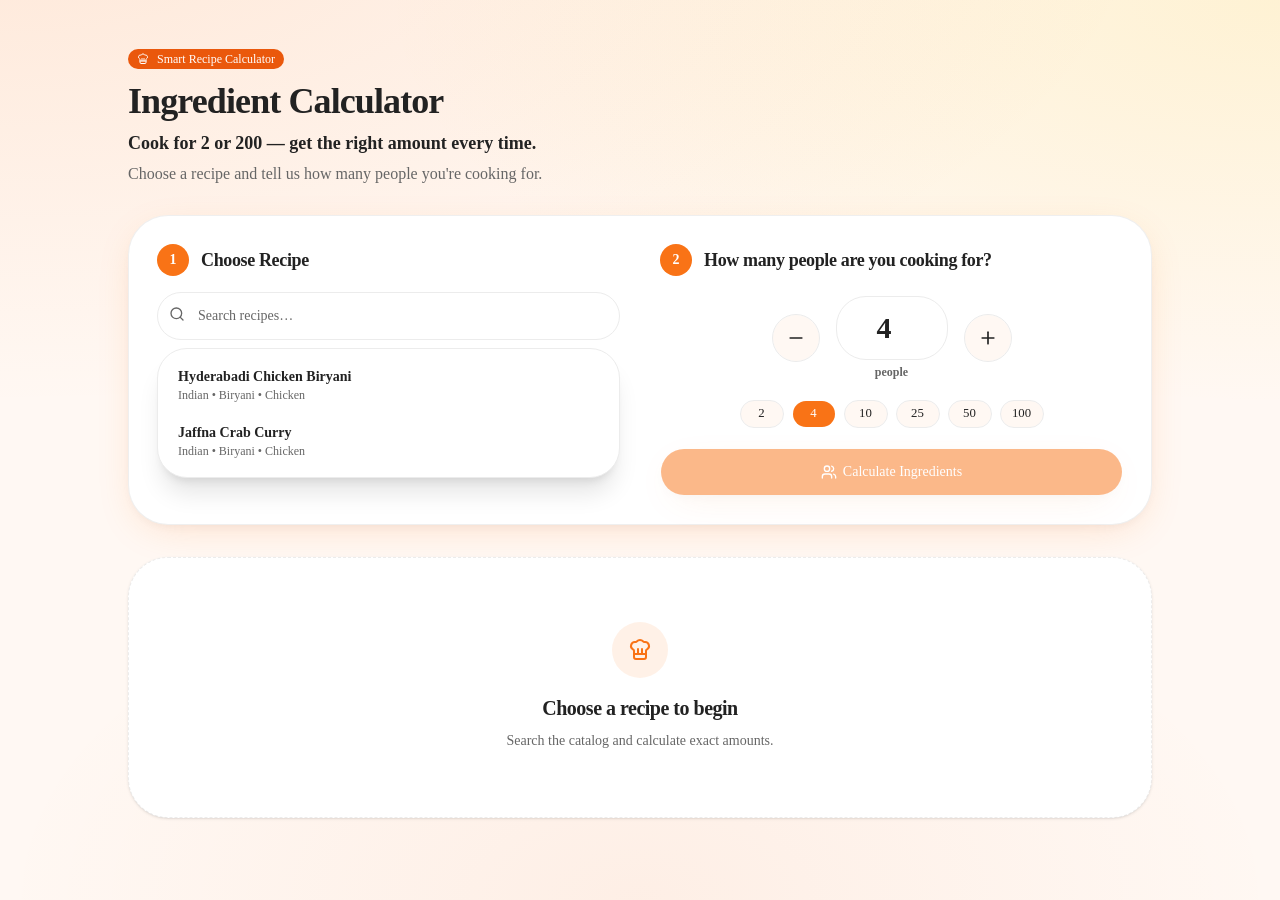
it: Calculate page › shows the complete catalog whenever the recipe search is focused
The image size is (1280, 900).
Check: the option "Jaffna Crab Curry Indian • Biryani • Chicken" is shown, box x1=166 y1=413 x2=611 y2=469
Click the option "Hyderabadi Chicken Biryani Indian • Biryani • Chicken".
click(265, 376)  # box x1=166 y1=357 x2=611 y2=413
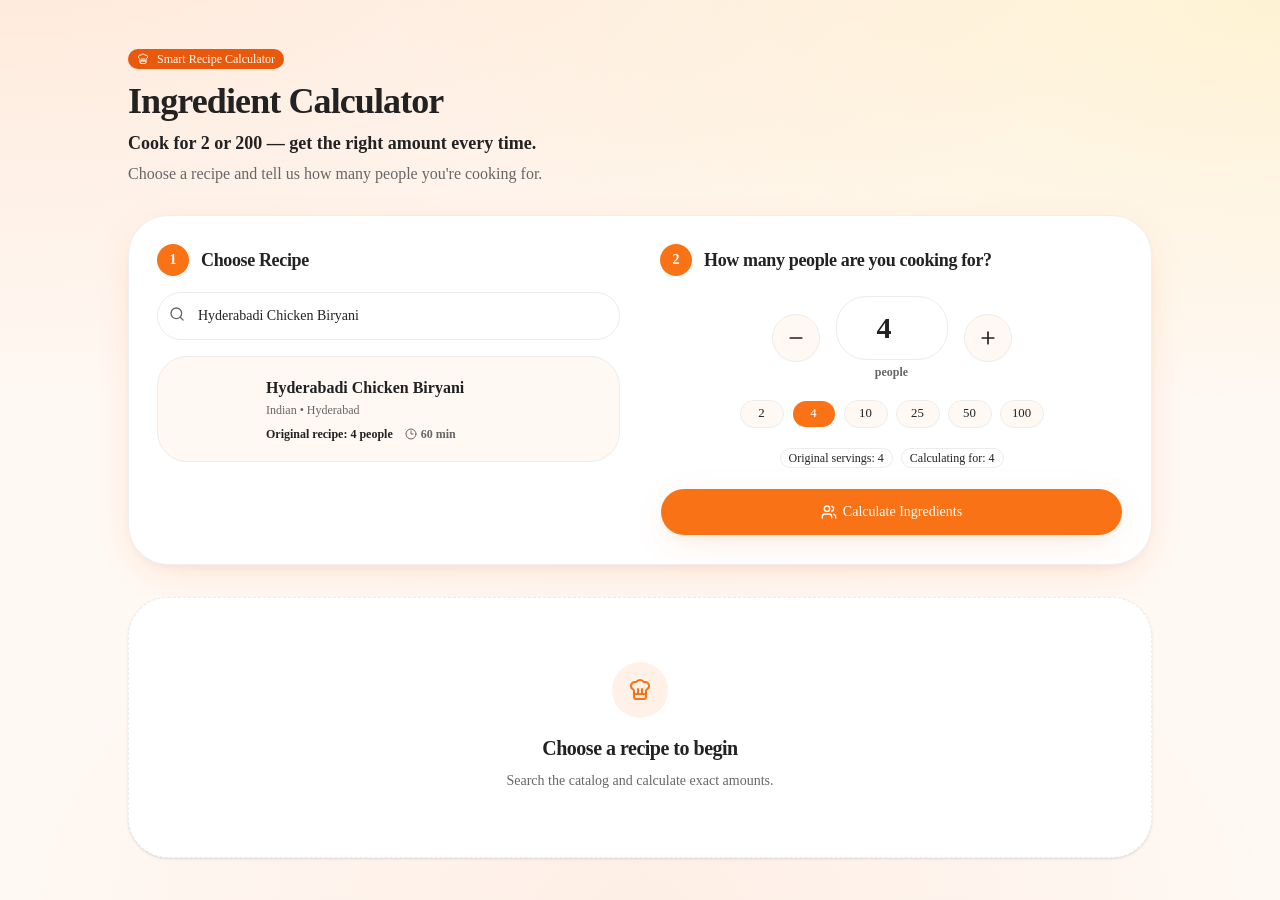
Focus the dropdown named "Search recipes…" at [388, 316], box x1=157 y1=292 x2=620 y2=340
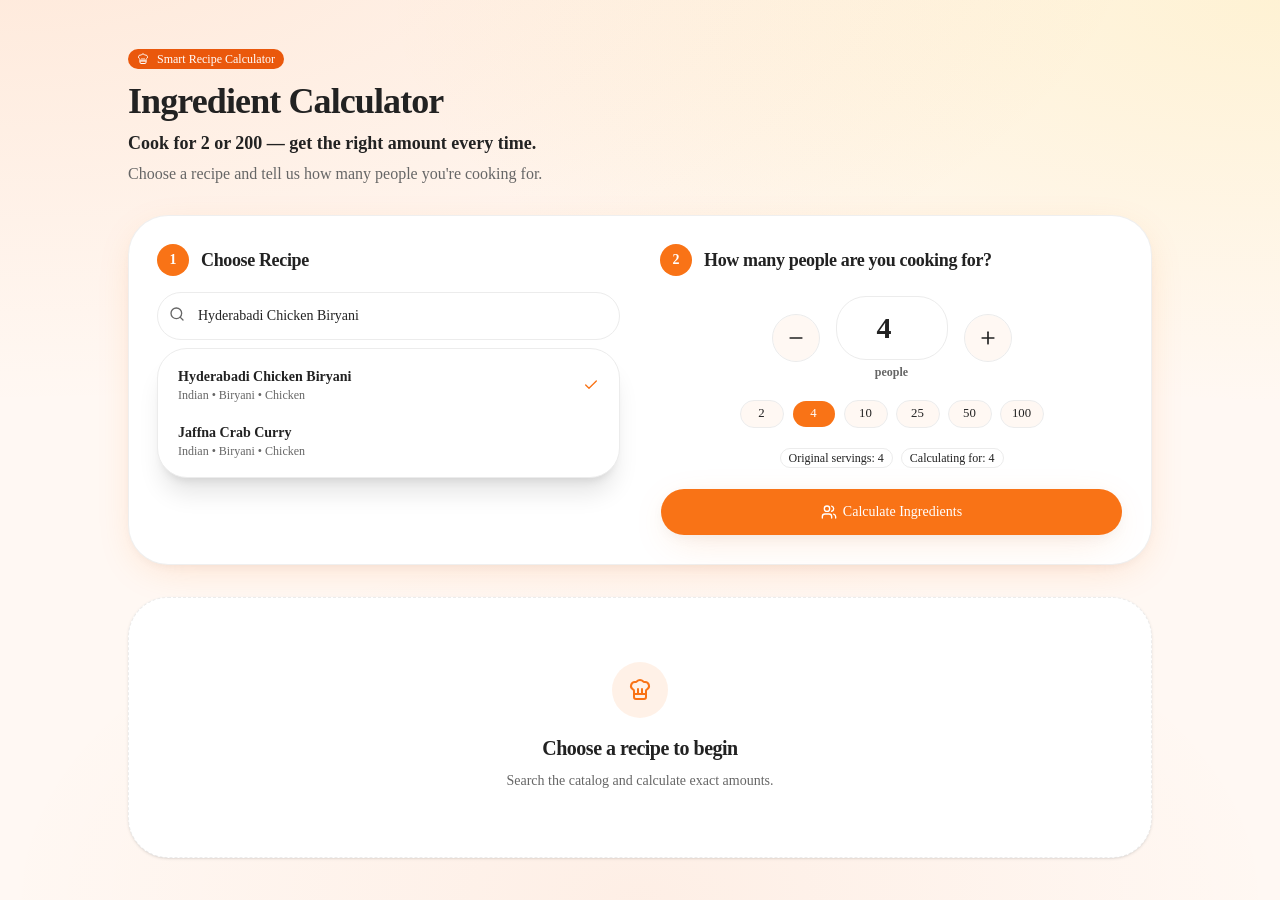
Check: the option "Hyderabadi Chicken Biryani Indian • Biryani • Chicken" is shown, box x1=166 y1=357 x2=611 y2=413
Check: the option "Jaffna Crab Curry Indian • Biryani • Chicken" is shown, box x1=166 y1=413 x2=611 y2=469
